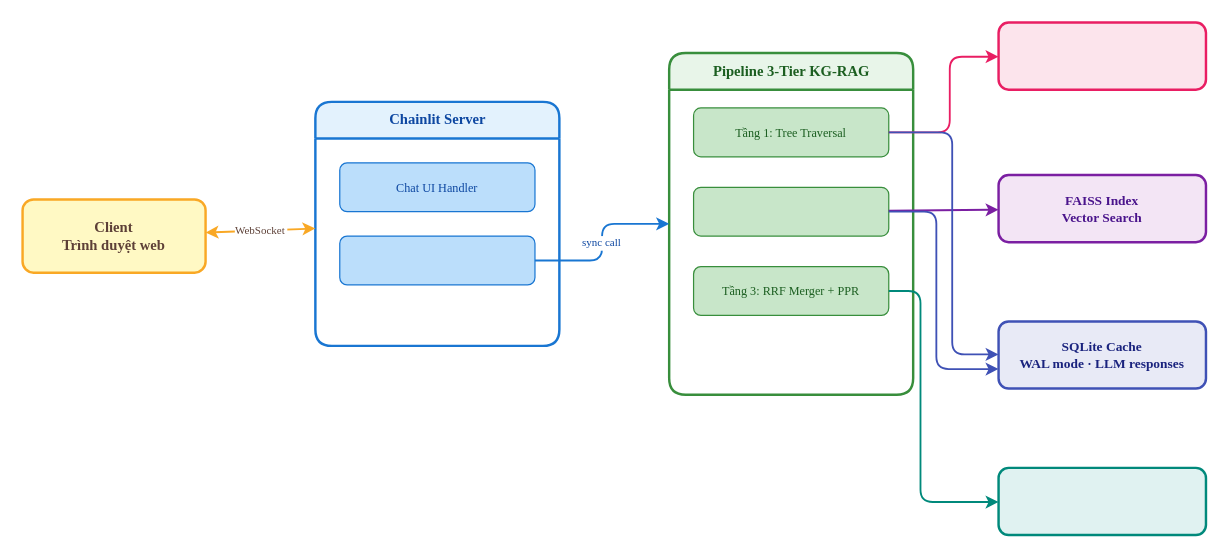
Some shapes in this 1227 by 556 pixel diagram are drawn without their labels. The shapes that lost their labels are listed below. From the top down, each one's centre as x and y in pixels, then its label:
At (x=1102, y=55): "Anthropic API Claude Sonnet 4 (LLM)".
At (x=790, y=211): "Tầng 2: Dual-Level Retrieval".
At (x=437, y=260): "Async Bridge".
At (x=1102, y=501): "Knowledge Graph NetworkX · PPR".
